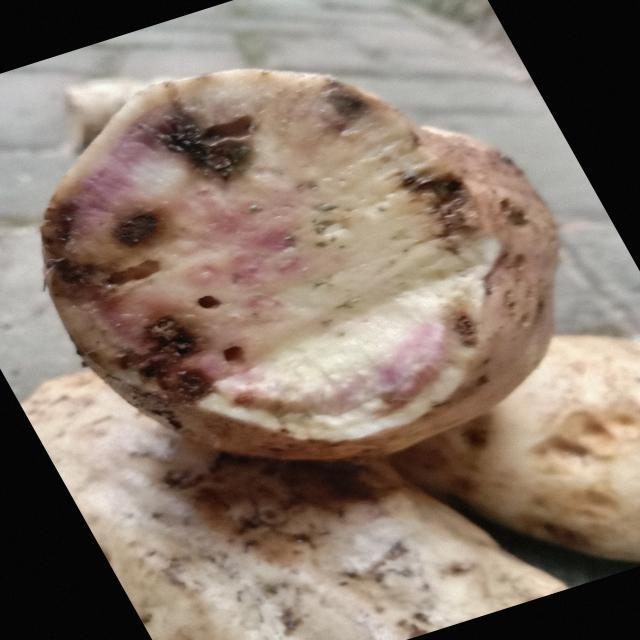Sick Sweet Potato_Tuber Rot: (42, 70, 500, 459)
